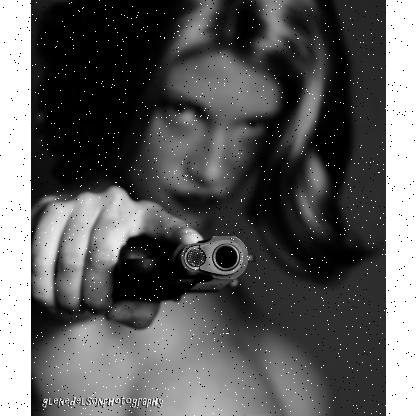gun: (112, 233, 254, 304)
